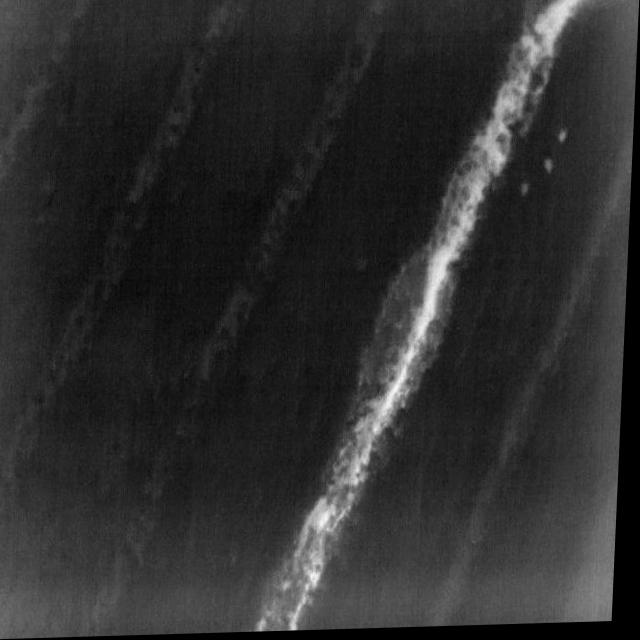deer: (558, 133, 570, 148), (545, 162, 556, 178), (522, 186, 531, 199)
